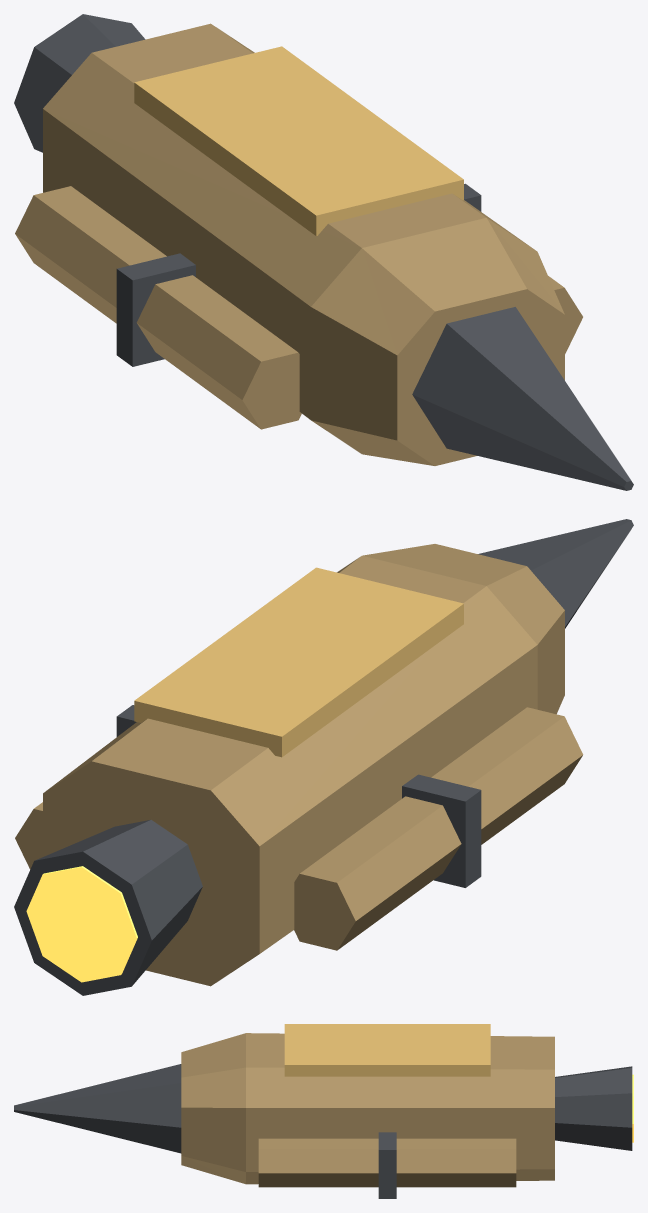
The model's file is foundry_drone.glb.
3 renders of one model, top to bottom at view 1: azimuth 30°, elevation 25°; view 2: azimuth 150°, elevation 25°; view 3: azimuth 270°, elevation 25°, orthographic. The views are drawn at different scales.
Visible parts, largest first — view 1: drone; view 2: drone; view 3: drone.
Part boxes in pixels (x1,y1,x2,y2): drone: (14,14,633,490); drone: (14,519,633,995); drone: (14,1024,633,1198).
Bounding box in the file's own units: 3.54 × 2.1 × 9.62.
